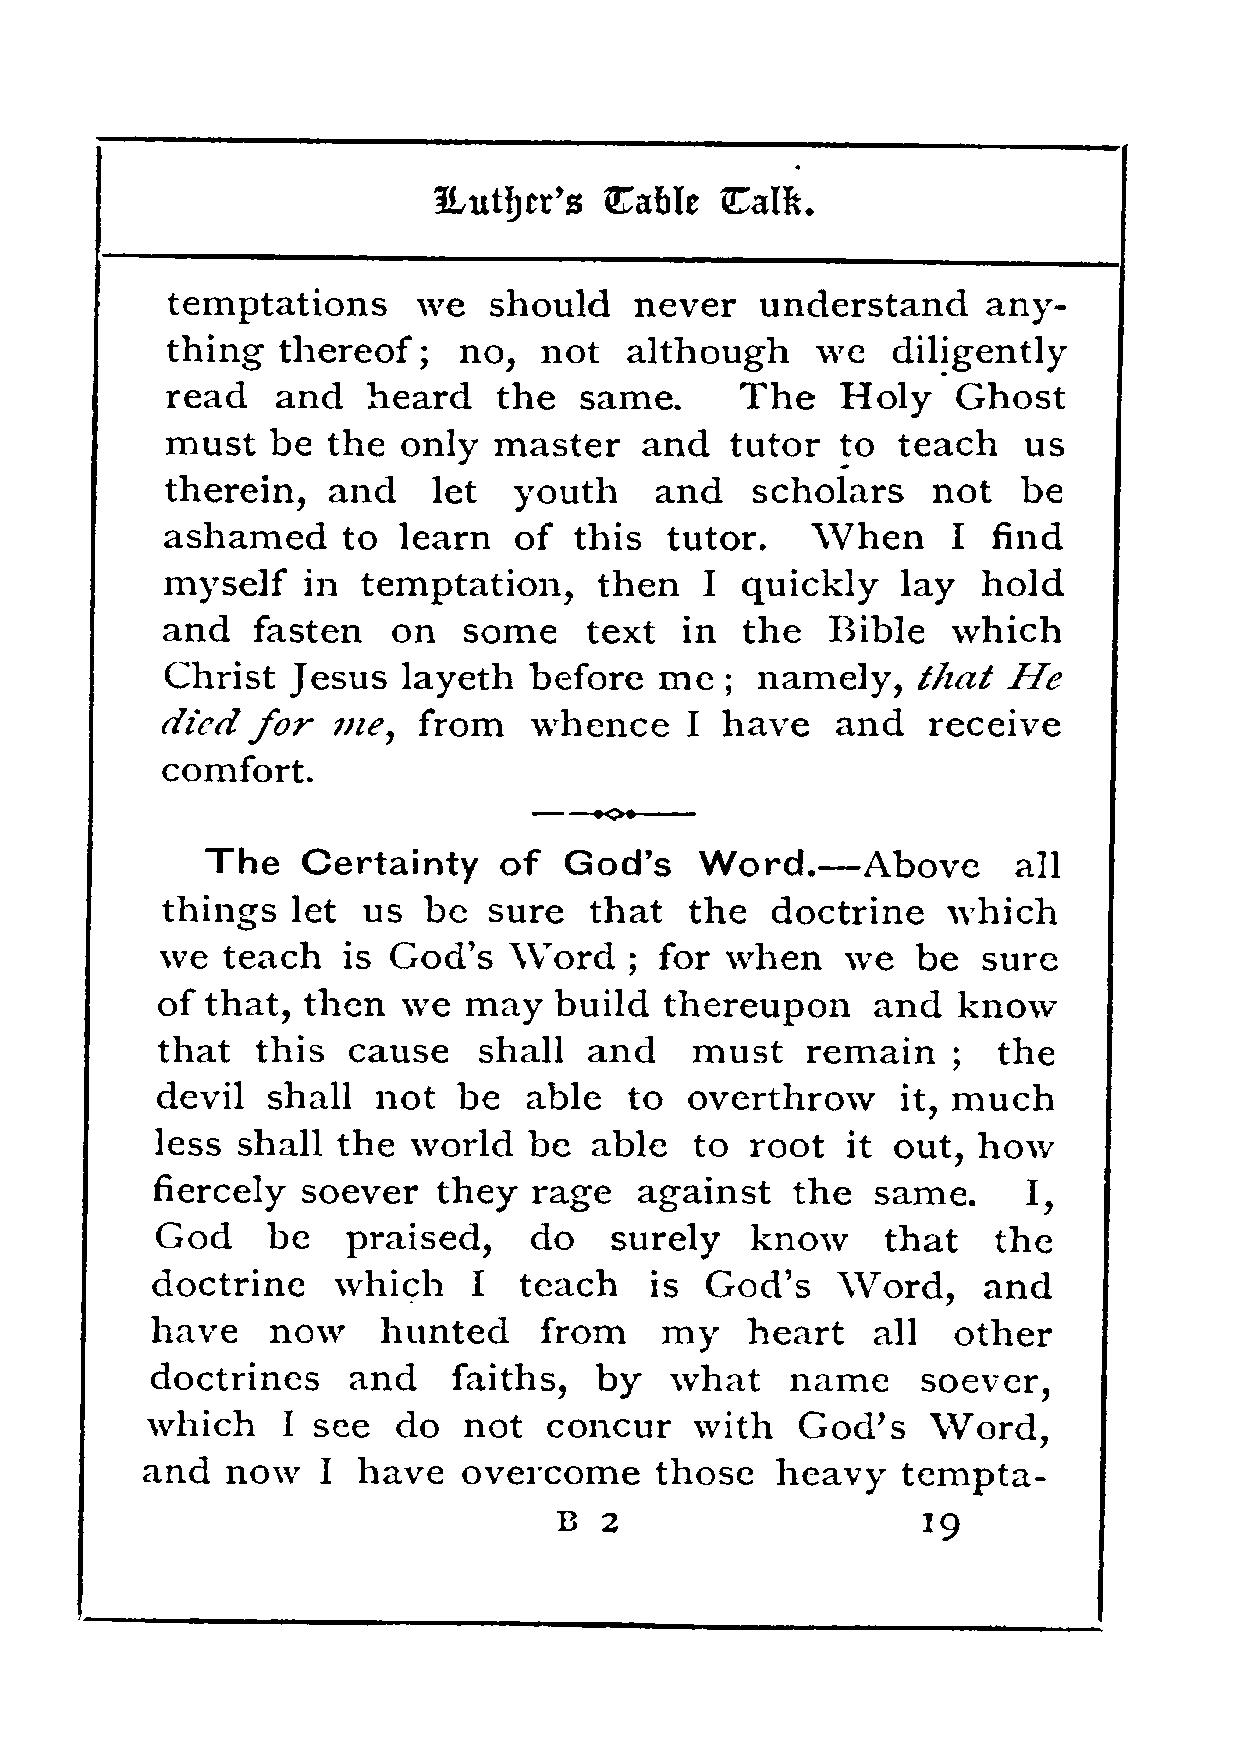chapter: (431, 172, 816, 227)
content: (138, 285, 1070, 1494)
content_pagenumber: (913, 1503, 965, 1543)
